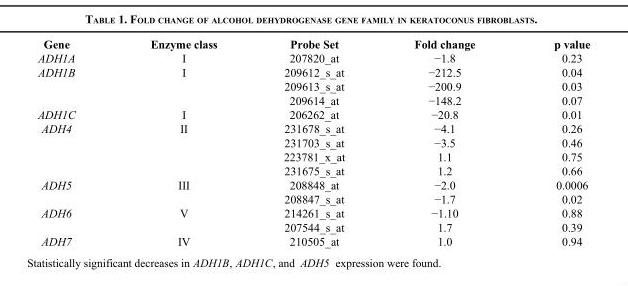table: (36, 37, 589, 247)
table column: (112, 37, 249, 247), (378, 37, 513, 247), (249, 37, 378, 247), (36, 37, 112, 247), (513, 37, 589, 247)
table column header: (36, 37, 589, 50)
table row: (36, 106, 589, 121), (36, 50, 589, 64), (36, 64, 589, 78), (36, 78, 589, 92), (36, 92, 589, 106), (36, 121, 589, 135), (36, 135, 589, 149), (36, 149, 589, 163), (36, 163, 589, 177), (36, 177, 589, 191), (36, 191, 589, 205), (36, 205, 589, 219), (36, 219, 589, 233), (36, 233, 589, 247), (36, 37, 589, 50)
table spanning cell: (36, 121, 112, 177), (36, 64, 112, 106), (36, 177, 112, 205), (36, 205, 112, 233)
